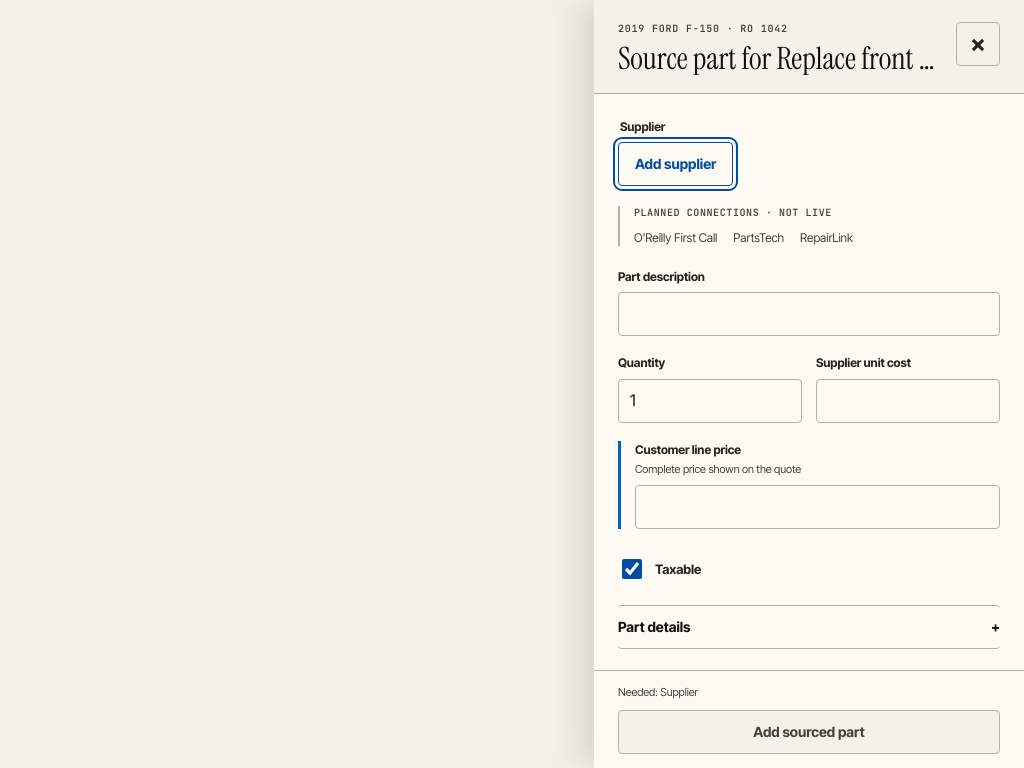
ManualPartSourcing › accepts an exact account-creation replay and selects the returned supplier without capturing an offer
Click the button "Add supplier". click: click(676, 164)
box: [618, 142, 733, 186]
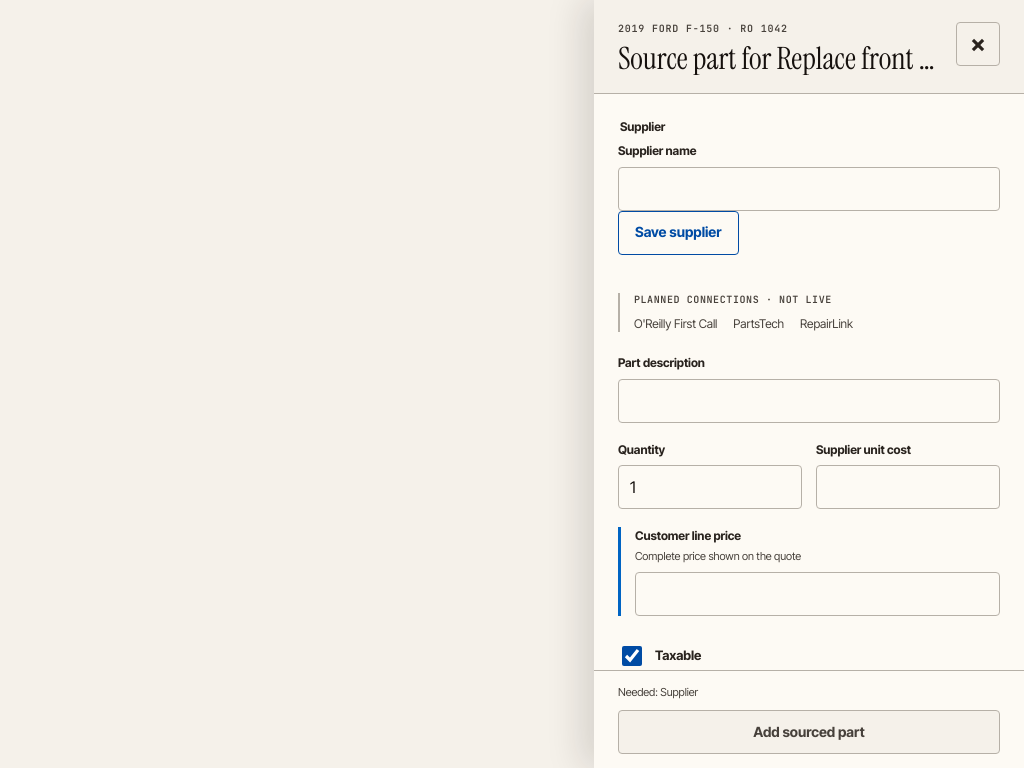
Type "Metro Supply" into the field labelled "Supplier name". click: (809, 188)
box: [618, 166, 1000, 210]
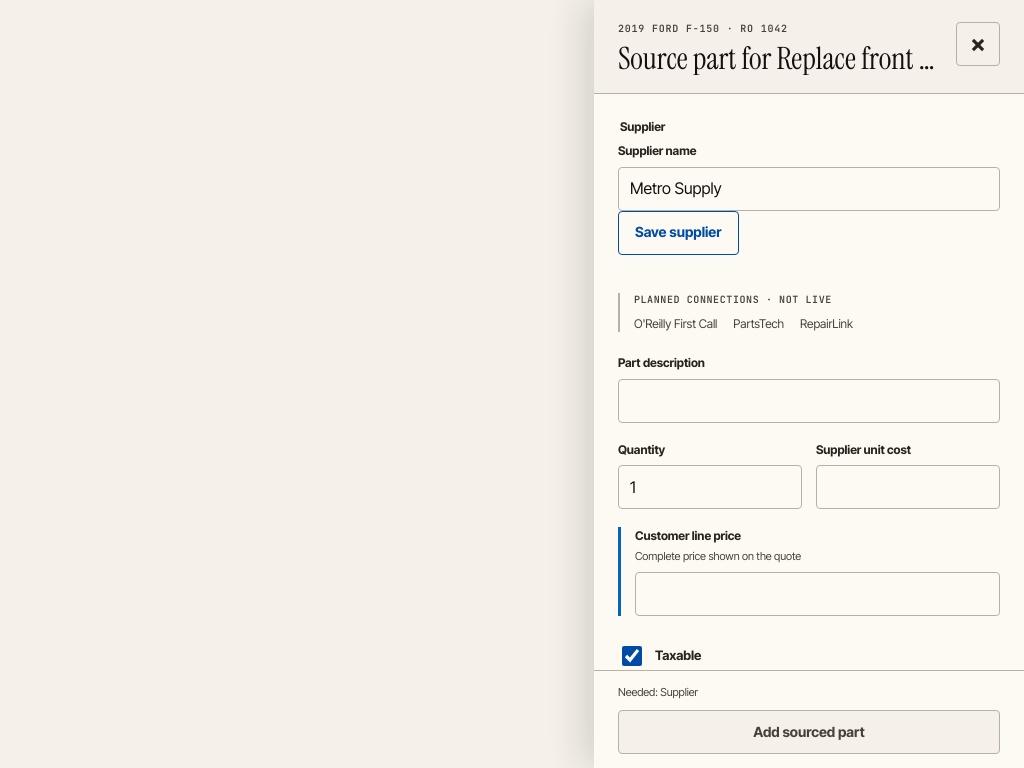
Click the button "Save supplier". click: click(678, 232)
box: [618, 210, 738, 254]
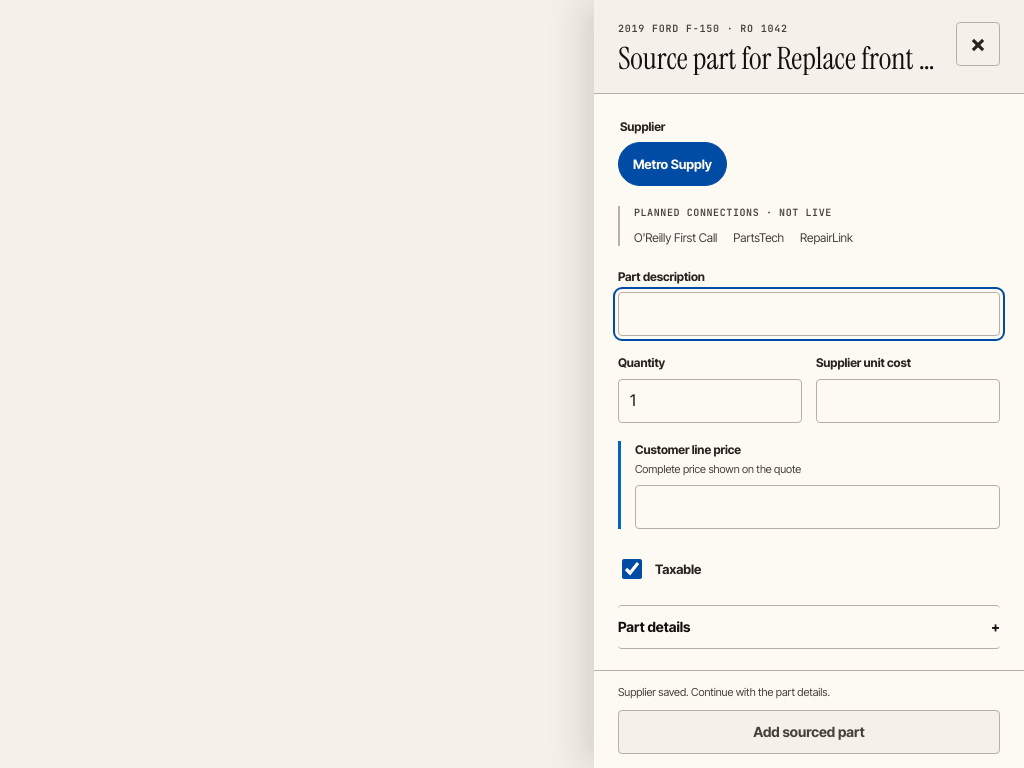
Expected: the radio button labelled "Metro Supply" is checked, [618, 142, 727, 186]
Expected: the message reads "Supplier saved. Continue with the part details.", [618, 685, 830, 699]
